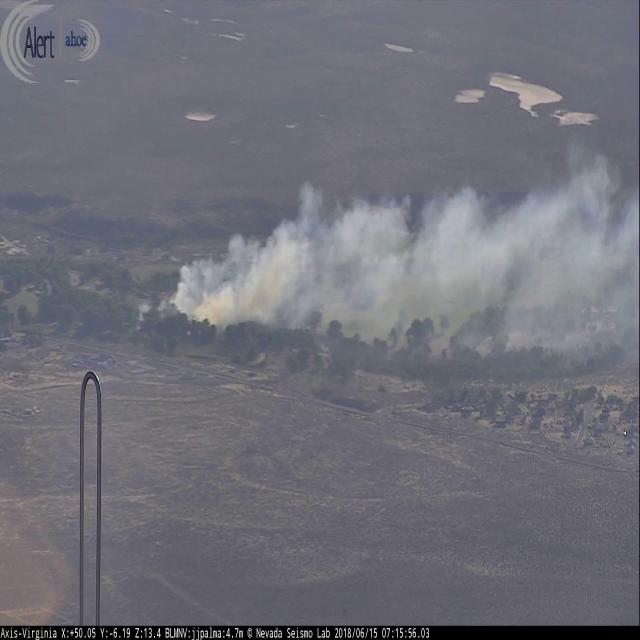smoke: (132, 156, 640, 343)
